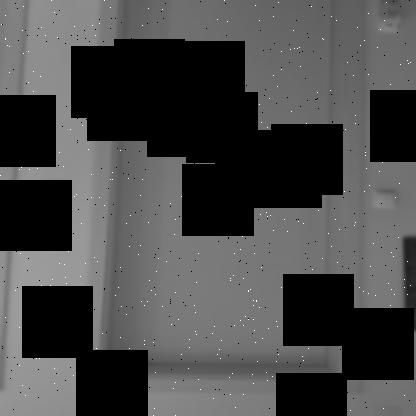Porte: (76, 0, 367, 395)
